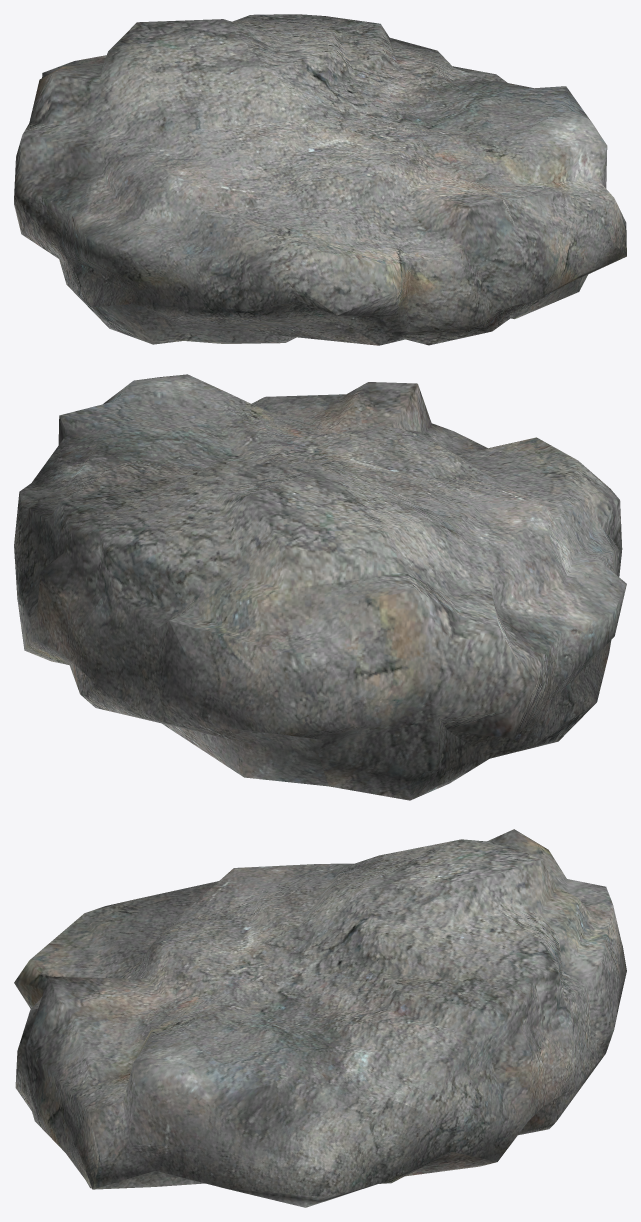
File: rock8.glb
3 renders of one model, top to bottom at view 1: azimuth 30°, elevation 25°; view 2: azimuth 150°, elevation 25°; view 3: azimuth 270°, elevation 25°, orthographic. The views are drawn at different scales.
Visible parts, largest first — view 1: rock8; view 2: rock8; view 3: rock8.
Boxes of the visible parts, left/top/right/bottom form: rock8: left=14, top=14, right=626, bottom=345; rock8: left=14, top=374, right=626, bottom=800; rock8: left=14, top=829, right=626, bottom=1207.
Size of the model in its own units: 4.9 by 2.18 by 4.84.
Materials: 1 (1 with a texture image).
